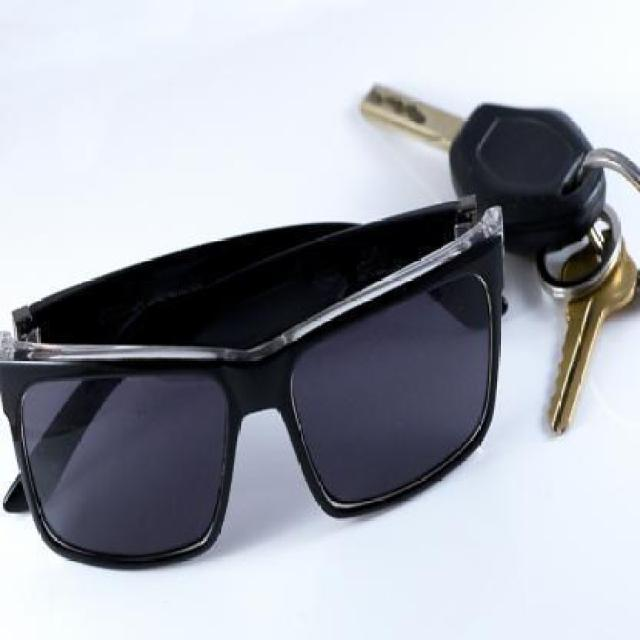glasses: (3, 96, 557, 595)
